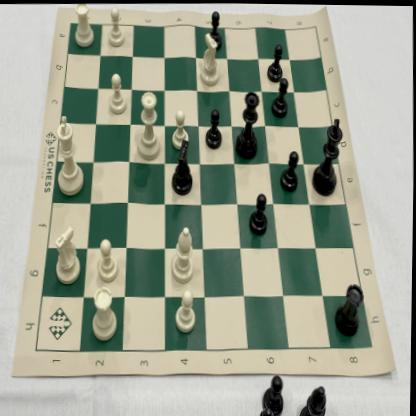black-king: (308, 112, 346, 200)
black-knight: (165, 137, 197, 198)
black-pawn: (247, 192, 272, 241), (277, 149, 303, 192), (202, 4, 225, 50), (267, 76, 292, 118), (203, 106, 224, 151), (264, 40, 285, 84)
black-queen: (232, 85, 262, 162)
black-rook: (333, 273, 366, 339)
white-bishop: (169, 223, 198, 285)
white-king: (51, 112, 86, 198)
white-knight: (50, 224, 85, 287), (197, 28, 223, 90)
white-pawn: (173, 284, 200, 335), (95, 235, 121, 284), (169, 105, 192, 151), (105, 74, 129, 116), (105, 3, 126, 48)
white-queen: (133, 84, 163, 163)
white-rook: (88, 283, 122, 342), (68, 3, 97, 50)
